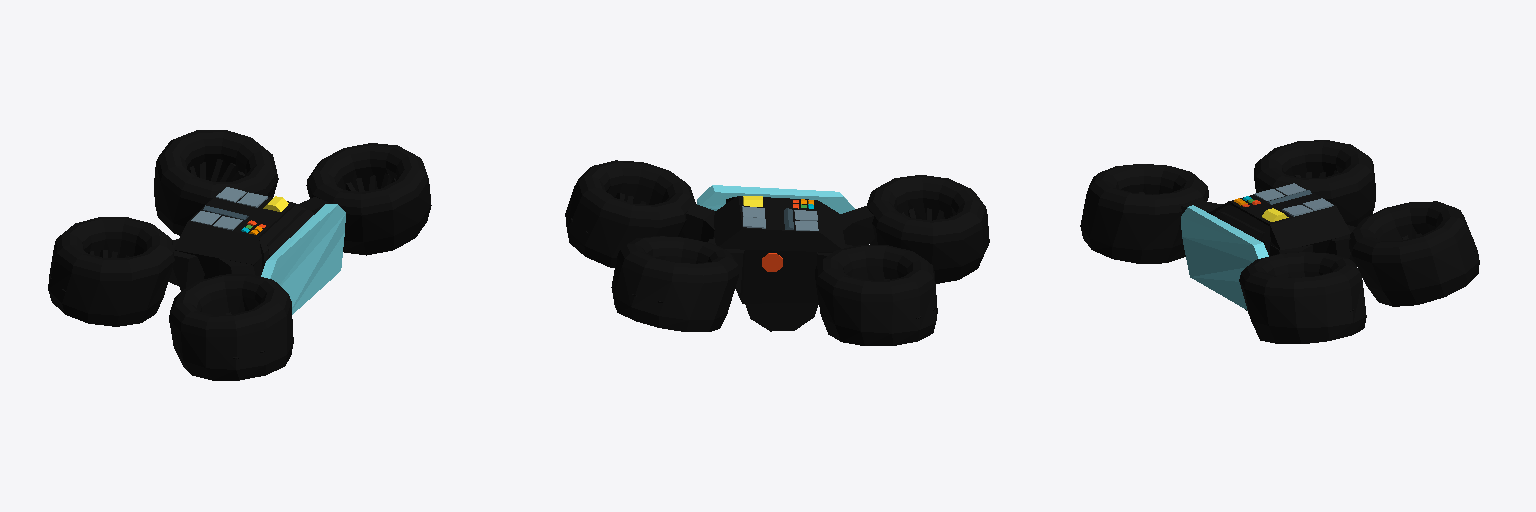
File: drone.obj
The picture shows the model from 3 angles: view 1: azimuth 30°, elevation 25°; view 2: azimuth 150°, elevation 25°; view 3: azimuth 270°, elevation 25°; orthographic projection.
Visible parts, largest first — view 1: group[number redacted], group[number redacted], group[number redacted], group[number redacted], group[number redacted], group[number redacted], group[number redacted], group[number redacted], group[number redacted], group[number redacted]; view 2: group[number redacted], group[number redacted], group[number redacted], group[number redacted], group[number redacted], group[number redacted], group[number redacted], group[number redacted], group[number redacted]; view 3: group[number redacted], group[number redacted], group[number redacted], group[number redacted], group[number redacted], group[number redacted], group[number redacted].
Part boxes in pixels (x1,y1,x2,y2): group[number redacted]: (169,274,293,380); group[number redacted]: (48,217,174,326); group[number redacted]: (306,143,431,255); group[number redacted]: (154,130,278,235); group[number redacted]: (261,204,345,314); group[number redacted]: (174,187,299,278); group[number redacted]: (169,239,204,290); group[number redacted]: (267,209,314,257); group[number redacted]: (259,205,311,268); group[number redacted]: (218,257,262,276); group[number redacted]: (815,245,937,345); group[number redacted]: (611,236,739,331); group[number redacted]: (565,160,695,267); group[number redacted]: (867,175,989,283); group[number redacted]: (714,196,845,303); group[number redacted]: (697,185,854,213); group[number redacted]: (745,303,818,331); group[number redacted]: (840,206,874,245); group[number redacted]: (679,203,714,241); group[number redacted]: (1349,201,1479,306); group[number redacted]: (1239,252,1366,343); group[number redacted]: (1080,164,1208,263); group[number redacted]: (1254,140,1375,226); group[number redacted]: (1181,205,1268,310); group[number redacted]: (1211,183,1350,252); group[number redacted]: (1215,205,1270,255).
Size of the model in its own units: 0.3705 by 0.1098 by 0.3538.